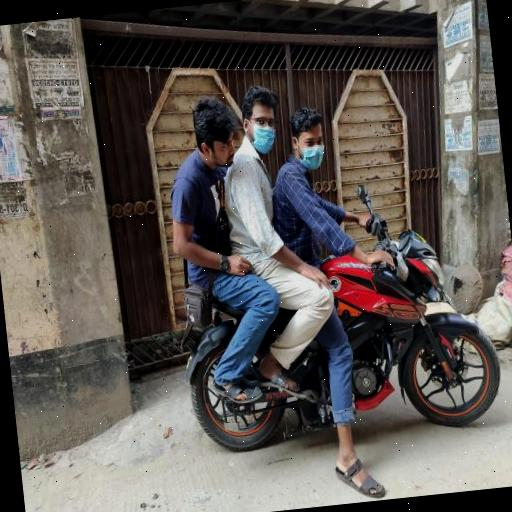no helmet: (284, 90, 339, 219)
triple riding: (141, 32, 512, 485)
